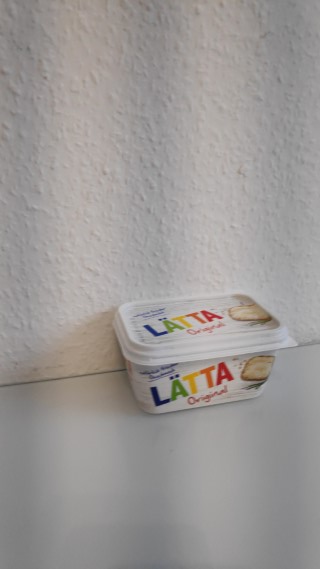laetta: (112, 290, 302, 414)
